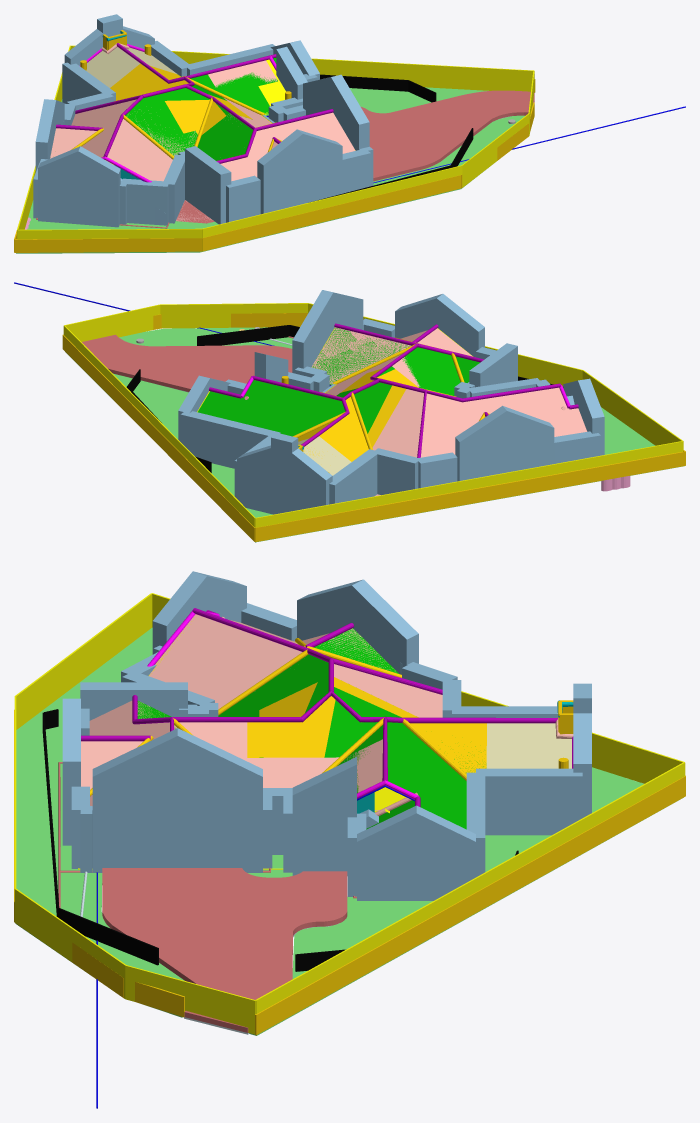
File: modelfile.glb
3 views of the same model, one above another, from view 1: azimuth 30°, elevation 25°; view 2: azimuth 150°, elevation 25°; view 3: azimuth 270°, elevation 25° (orthographic). The views are drawn at different scales.
Visible parts, largest first — view 1: Scaffold (×18), Site Security Fence (×5), Excavation 200 (×2), Roof Truss Standard (×6), Fence Timber (×3), Roof Corrugated (×3), Lawn Hydroseed, Roof Scissor Truss (×2), Roof Ridge (×2), Soffit Hardie Groove, Sediment Control, Pipe Water Polybutylene 25mm (+1 smaller); view 2: Scaffold (×16), Site Security Fence (×6), Roof Truss Standard (×5), Fence Timber (×3), Roof Corrugated (×4), Excavation 200, Lawn Hydroseed, Roof Scissor Truss (×2), Roof Ridge (×2), Sediment Control, Soffit Hardie Groove; view 3: Scaffold (×17), Excavation 200, Site Security Fence (×5), Lawn Hydroseed, Roof Truss Standard (×6), Fence Timber (×3), Roof Corrugated (×4), Roof Scissor Truss (×3), Roof Ridge (×3), Soffit Hardie Groove, Sediment Control.
Boxes of the visible parts, bbox=[...] form: Scaffold (×18): bbox=[35, 14, 370, 227]; Site Security Fence (×5): bbox=[17, 45, 533, 250]; Excavation 200 (×2): bbox=[176, 90, 534, 223]; Roof Truss Standard (×6): bbox=[50, 60, 355, 181]; Fence Timber (×3): bbox=[14, 123, 528, 252]; Roof Corrugated (×3): bbox=[125, 72, 277, 160]; Lawn Hydroseed: bbox=[16, 87, 524, 253]; Roof Scissor Truss (×2): bbox=[110, 63, 209, 134]; Roof Ridge (×2): bbox=[75, 55, 333, 156]; Soffit Hardie Groove: bbox=[86, 47, 140, 87]; Sediment Control: bbox=[320, 74, 408, 91]; Pipe Water Polybutylene 25mm: bbox=[373, 106, 685, 183]; Scaffold (×16): bbox=[178, 290, 604, 514]; Site Security Fence (×6): bbox=[63, 303, 683, 527]; Roof Truss Standard (×5): bbox=[311, 327, 587, 457]; Fence Timber (×3): bbox=[62, 313, 685, 541]; Roof Corrugated (×4): bbox=[198, 328, 460, 436]; Excavation 200: bbox=[82, 334, 292, 391]; Lawn Hydroseed: bbox=[65, 327, 684, 542]; Roof Scissor Truss (×2): bbox=[304, 385, 406, 461]; Roof Ridge (×2): bbox=[252, 323, 561, 457]; Sediment Control: bbox=[197, 325, 289, 345]; Soffit Hardie Groove: bbox=[303, 436, 351, 475]; Scaffold (×17): bbox=[62, 571, 591, 900]; Excavation 200: bbox=[102, 868, 347, 1032]; Site Security Fence (×5): bbox=[14, 593, 685, 1034]; Lawn Hydroseed: bbox=[15, 627, 682, 1035]; Roof Truss Standard (×6): bbox=[81, 614, 442, 805]; Fence Timber (×3): bbox=[14, 776, 685, 1035]; Roof Corrugated (×4): bbox=[218, 628, 466, 829]; Roof Scissor Truss (×3): bbox=[247, 682, 486, 773]; Roof Ridge (×3): bbox=[170, 608, 557, 781]; Soffit Hardie Groove: bbox=[486, 723, 571, 768]; Sediment Control: bbox=[57, 908, 158, 965].
Size of the model in its own units: 61.49 by 9.16 by 36.15.
